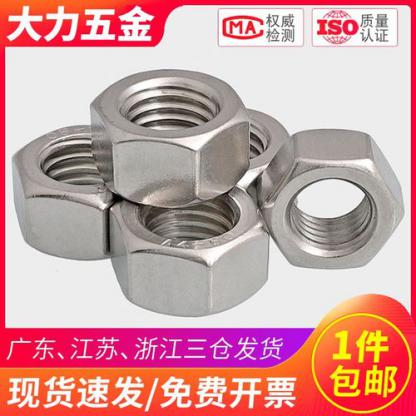FOD: (86, 69, 254, 212), (254, 126, 407, 276), (107, 178, 274, 315), (12, 118, 147, 258)
